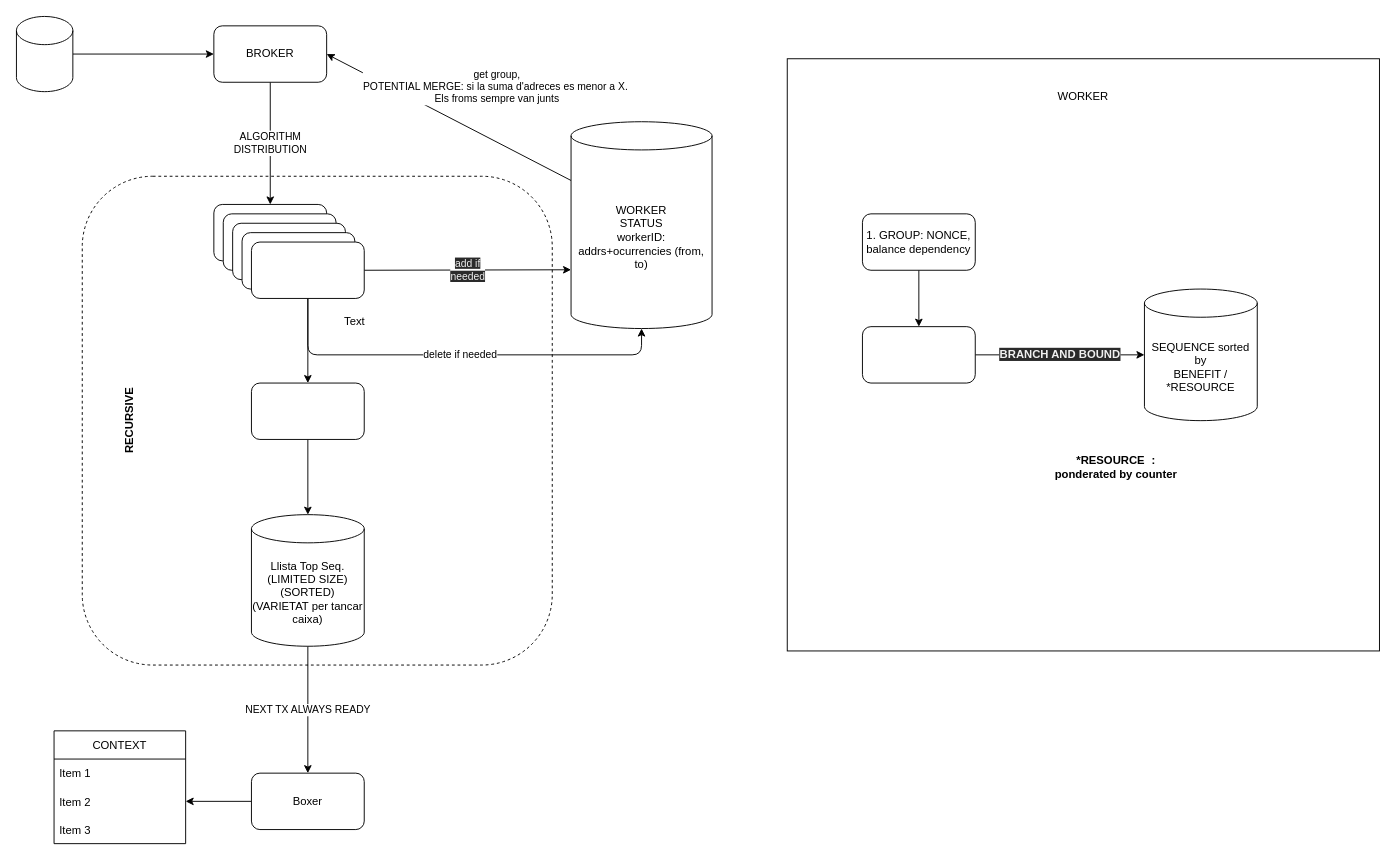
This 1396x860 diagram has some shape labels left out. The box of each missing label's shape, as (x1, y1, x2, y2) in pixels:
Buffer Manager aka EL TIO DE LA MESA: (251, 382, 364, 439)
Evaluate potential sequences based on: EARN / USED RESOURCE: (862, 326, 975, 383)
POOL: (16, 16, 73, 92)
QUEUE WORKER: (251, 241, 364, 298)
